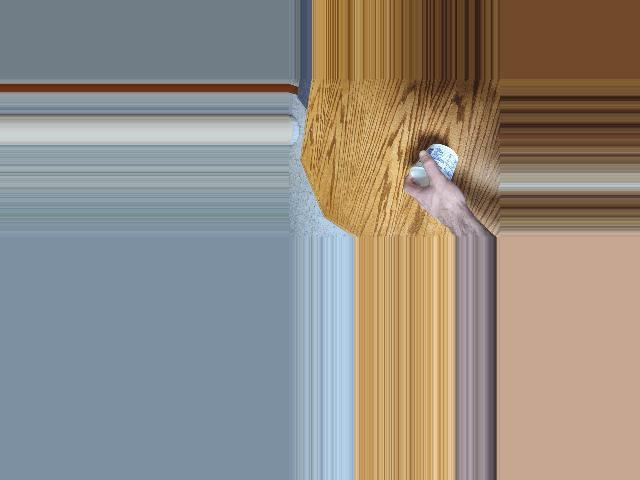cotage: (410, 146, 466, 194)
